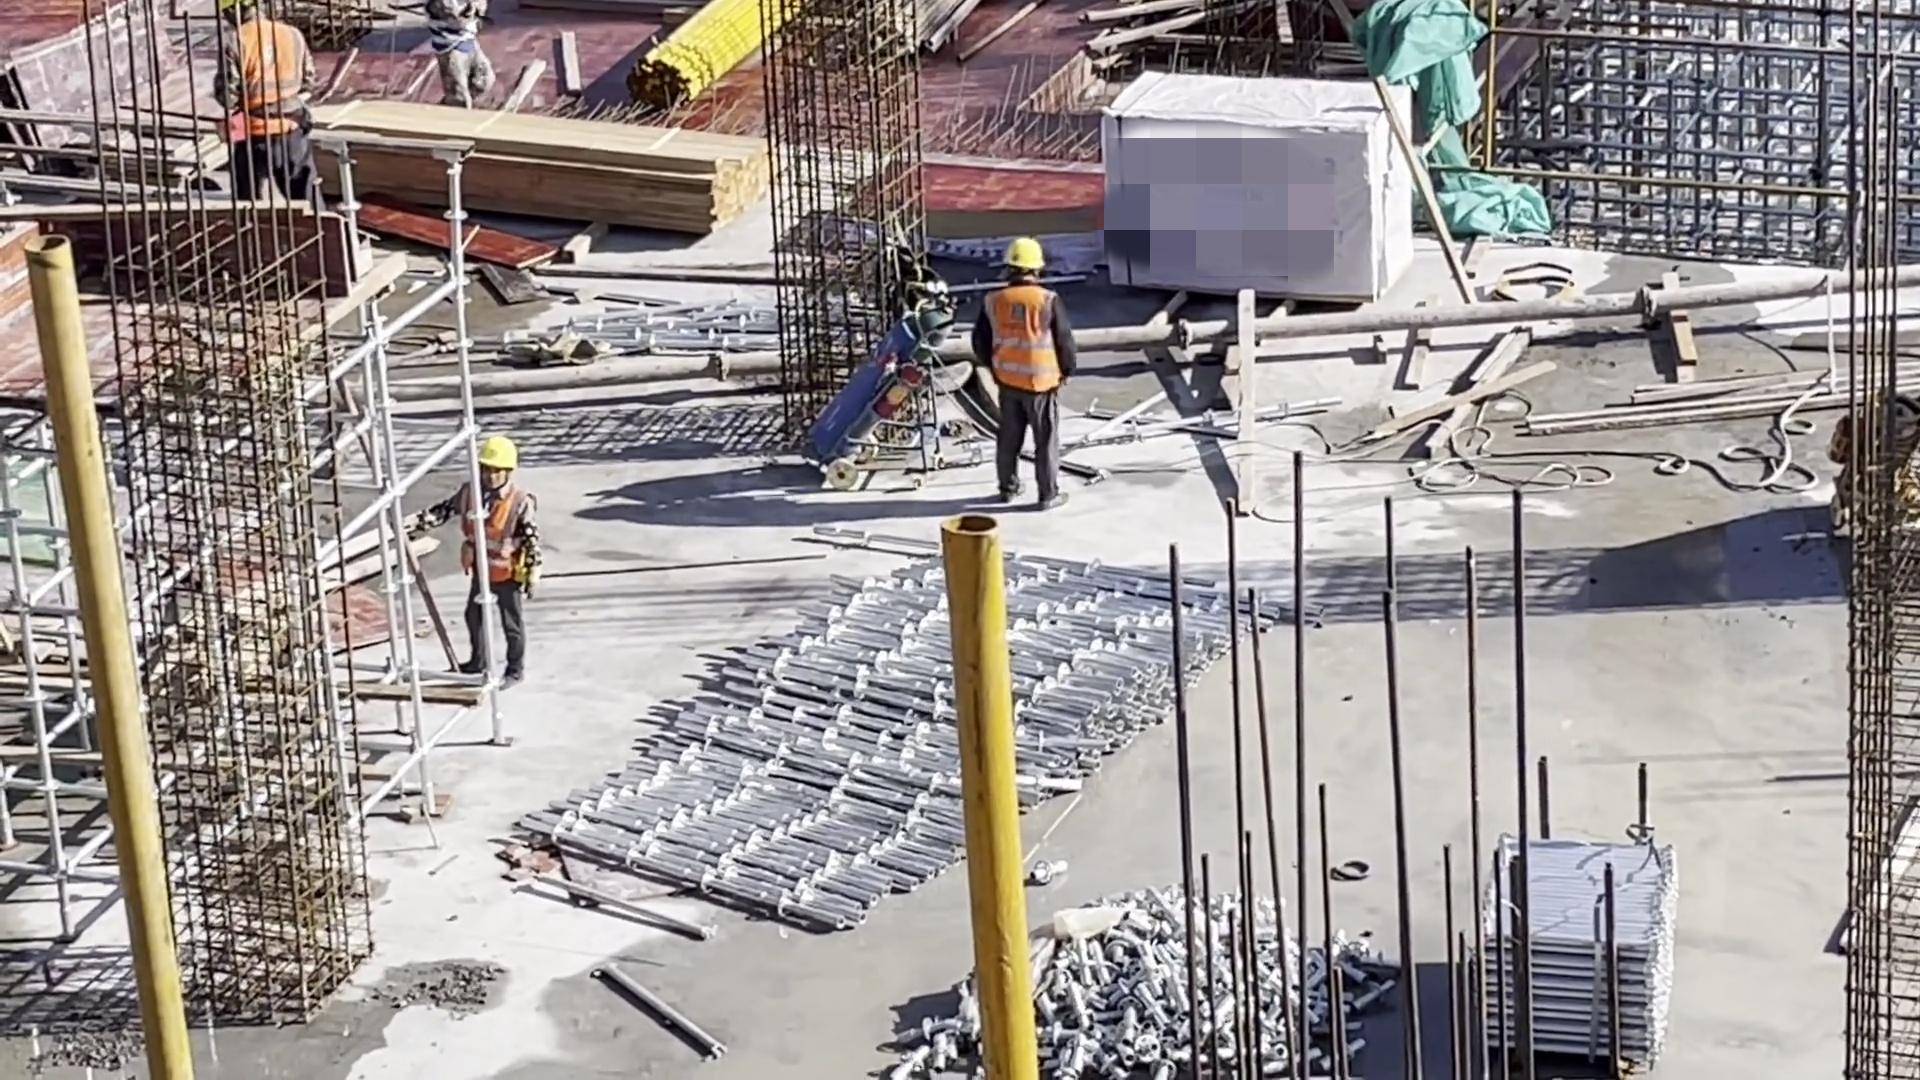helmet: (467, 434, 518, 472), (1002, 241, 1048, 274)
person: (417, 438, 540, 676), (975, 242, 1080, 516), (217, 5, 319, 189), (426, 4, 493, 113)
scaffold: (520, 516, 1328, 948), (1477, 831, 1678, 1059)
vest: (225, 27, 306, 137), (985, 289, 1066, 394), (462, 483, 524, 589)
wood: (324, 101, 770, 236)
